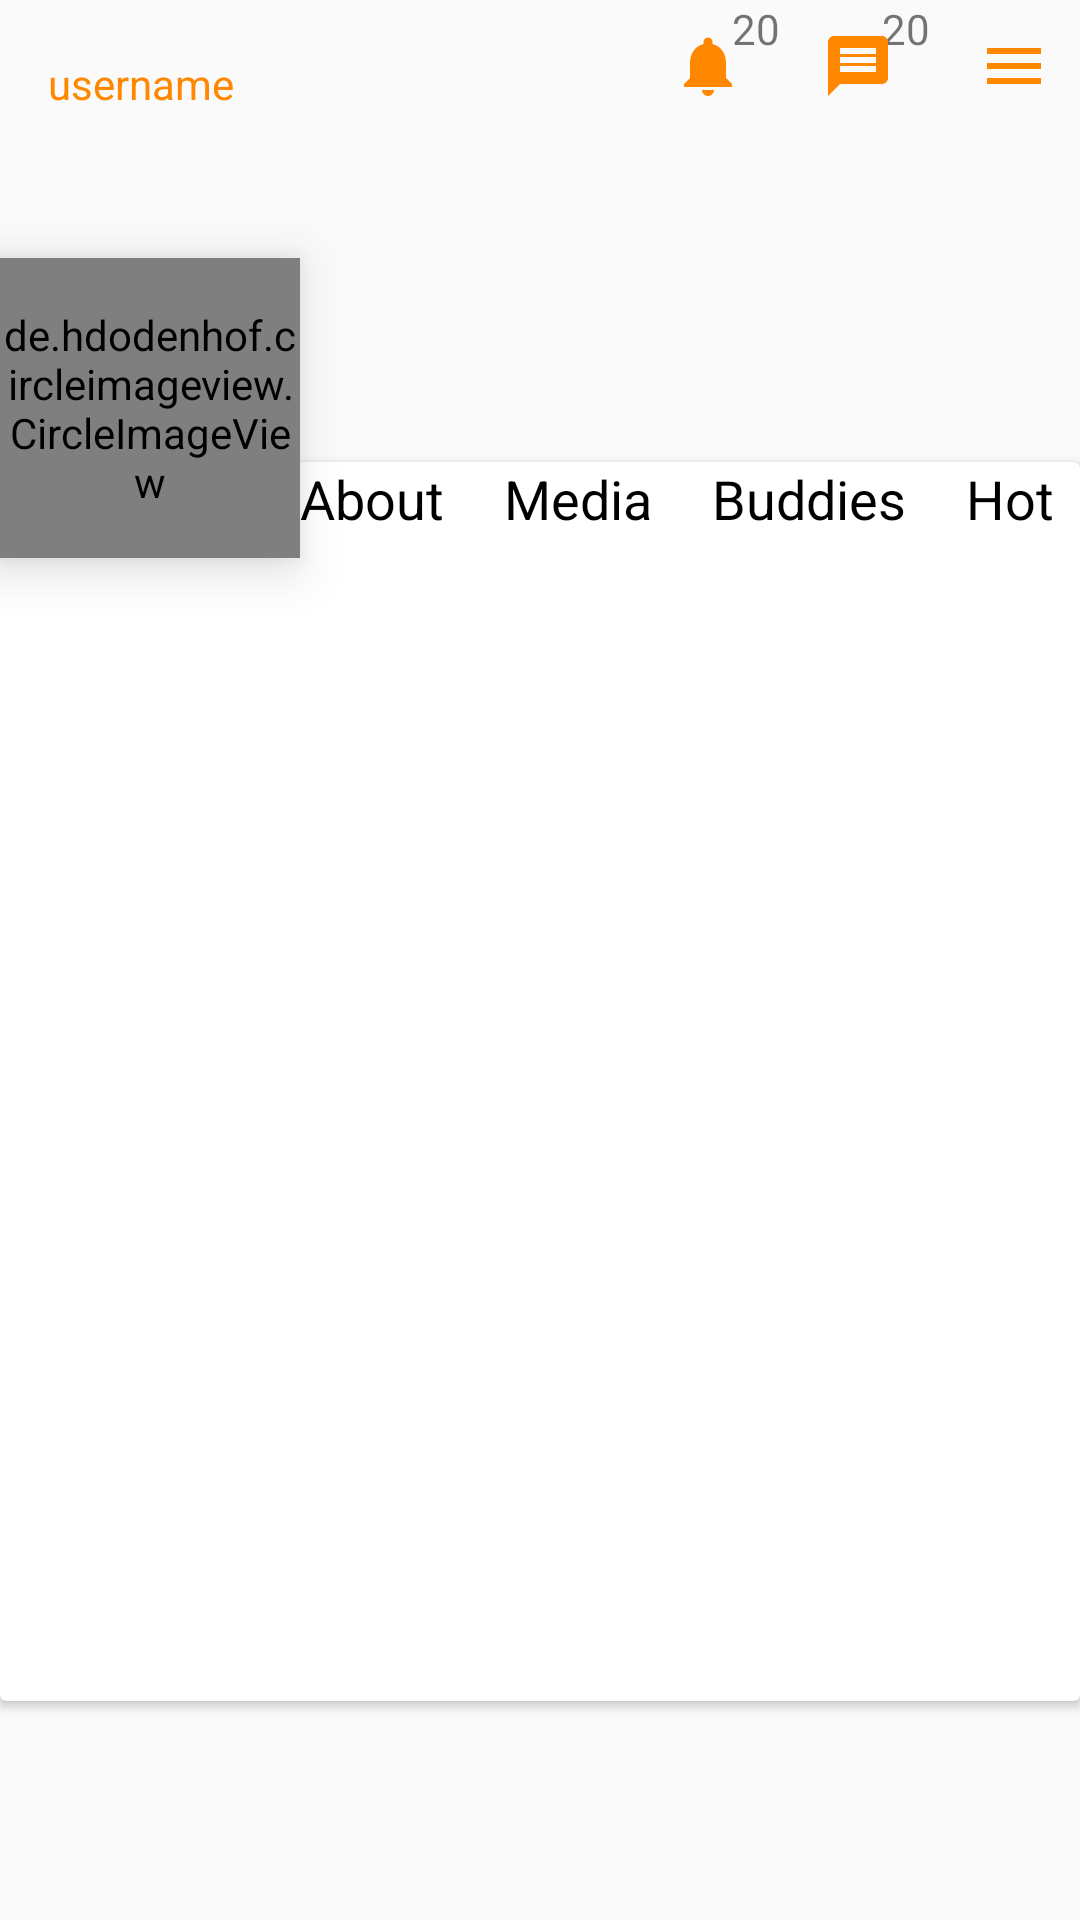

Screen size 1080px×1920px. Icon name, then its box in pixels as [x1,y1,x2,y2]:
message: [828,32,894,96]
notifications: [684,37,732,96]
